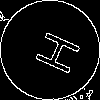H: (25, 25, 82, 77)
